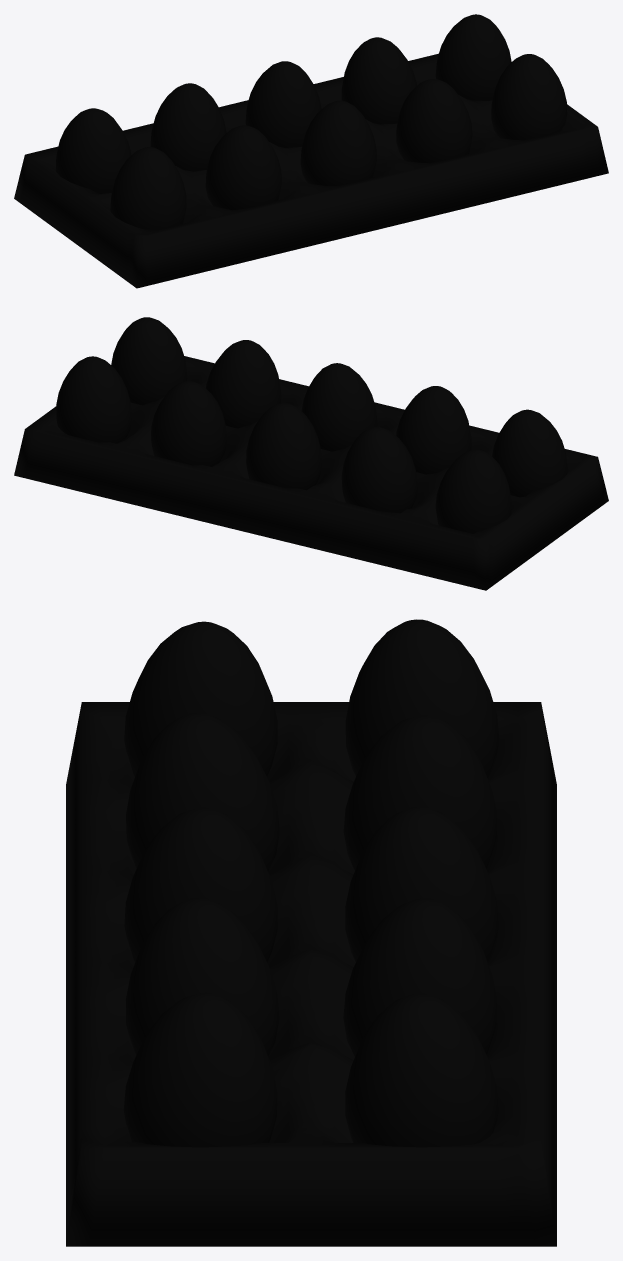
Rendered from egg_tray.glb.
The picture shows the model from 3 angles, top to bottom: view 1: azimuth 30°, elevation 25°; view 2: azimuth 150°, elevation 25°; view 3: azimuth 270°, elevation 25°; orthographic projection. The views are drawn at different scales.
Visible parts, largest first — view 1: Carton_Tray, Egg_10, Egg_8, Egg_7, Egg_9, Egg_6, Egg_2, Egg_5, Egg_3, Egg_4, Egg_1; view 2: Carton_Tray, Egg_5, Egg_3, Egg_2, Egg_4, Egg_1, Egg_7, Egg_10, Egg_6, Egg_9, Egg_8; view 3: Carton_Tray, Egg_10, Egg_5, Egg_1, Egg_4, Egg_9, Egg_7, Egg_3, Egg_2, Egg_6, Egg_8.
Part boxes in pixels (left/top/right/bottom): Carton_Tray: left=14, top=53, right=608, bottom=288; Egg_10: left=491, top=54, right=567, bottom=140; Egg_8: left=300, top=100, right=376, bottom=185; Egg_7: left=205, top=125, right=281, bottom=210; Egg_9: left=396, top=79, right=472, bottom=163; Egg_6: left=110, top=147, right=186, bottom=229; Egg_2: left=150, top=83, right=226, bottom=171; Egg_5: left=435, top=14, right=511, bottom=100; Egg_3: left=245, top=61, right=321, bottom=147; Egg_4: left=341, top=37, right=416, bottom=124; Egg_1: left=56, top=108, right=131, bottom=193; Carton_Tray: left=14, top=356, right=608, bottom=590; Egg_5: left=56, top=356, right=132, bottom=443; Egg_3: left=246, top=403, right=321, bottom=490; Egg_2: left=341, top=426, right=417, bottom=513; Egg_4: left=151, top=381, right=226, bottom=466; Egg_1: left=435, top=449, right=511, bottom=533; Egg_7: left=396, top=386, right=471, bottom=474; Egg_10: left=111, top=317, right=187, bottom=405; Egg_6: left=492, top=409, right=567, bottom=497; Egg_9: left=206, top=340, right=281, bottom=428; Egg_8: left=301, top=363, right=377, bottom=451; Carton_Tray: left=66, top=702, right=556, bottom=1246; Egg_10: left=123, top=992, right=277, bottom=1147; Egg_5: left=345, top=993, right=498, bottom=1147; Egg_1: left=345, top=619, right=499, bottom=777; Egg_4: left=343, top=898, right=496, bottom=1056; Egg_9: left=125, top=897, right=279, bottom=1055; Egg_7: left=126, top=713, right=279, bottom=870; Egg_3: left=345, top=806, right=498, bottom=961; Egg_2: left=343, top=715, right=496, bottom=870; Egg_6: left=124, top=621, right=277, bottom=776; Egg_8: left=124, top=807, right=277, bottom=962.
Size of the model in its own units: 3.41 by 0.7123 by 1.54.
2 materials, 2 textured.
